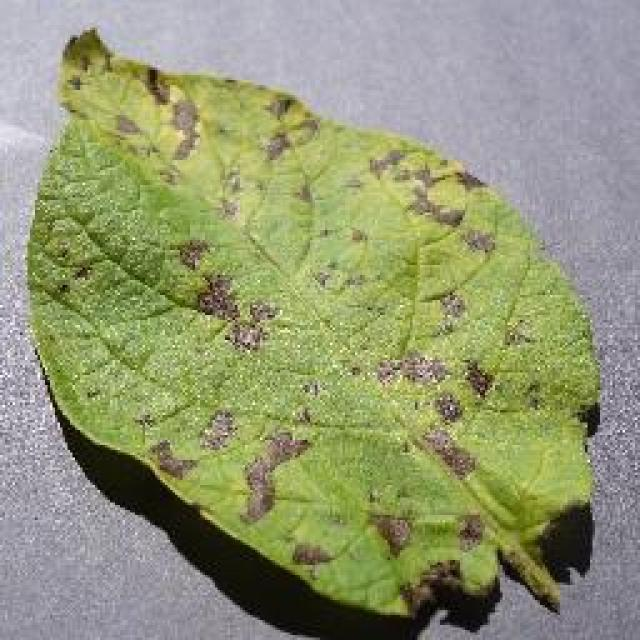Potato: (22, 25, 602, 637)
